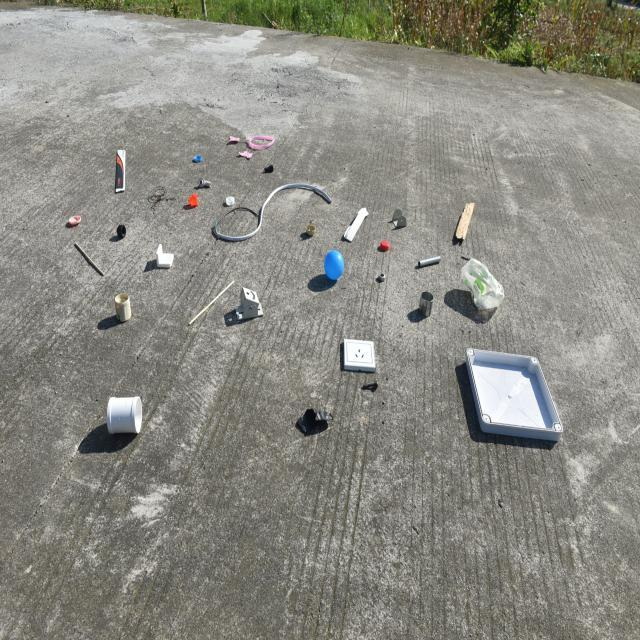Debris: (461, 349, 563, 447), (209, 187, 332, 245), (456, 253, 509, 314), (186, 270, 238, 329), (105, 385, 151, 436), (333, 332, 386, 372), (223, 129, 285, 161), (66, 235, 103, 287), (226, 288, 269, 329), (292, 404, 333, 442), (451, 190, 480, 243), (345, 194, 376, 243), (110, 144, 132, 202), (324, 248, 354, 286), (112, 289, 139, 329), (149, 241, 180, 273), (390, 198, 409, 234), (415, 252, 442, 276), (422, 289, 437, 320), (62, 212, 86, 228), (113, 223, 129, 246), (182, 191, 197, 213), (360, 382, 385, 395), (192, 178, 216, 191), (372, 270, 392, 282), (189, 150, 200, 168), (378, 242, 390, 251), (262, 166, 276, 173)
